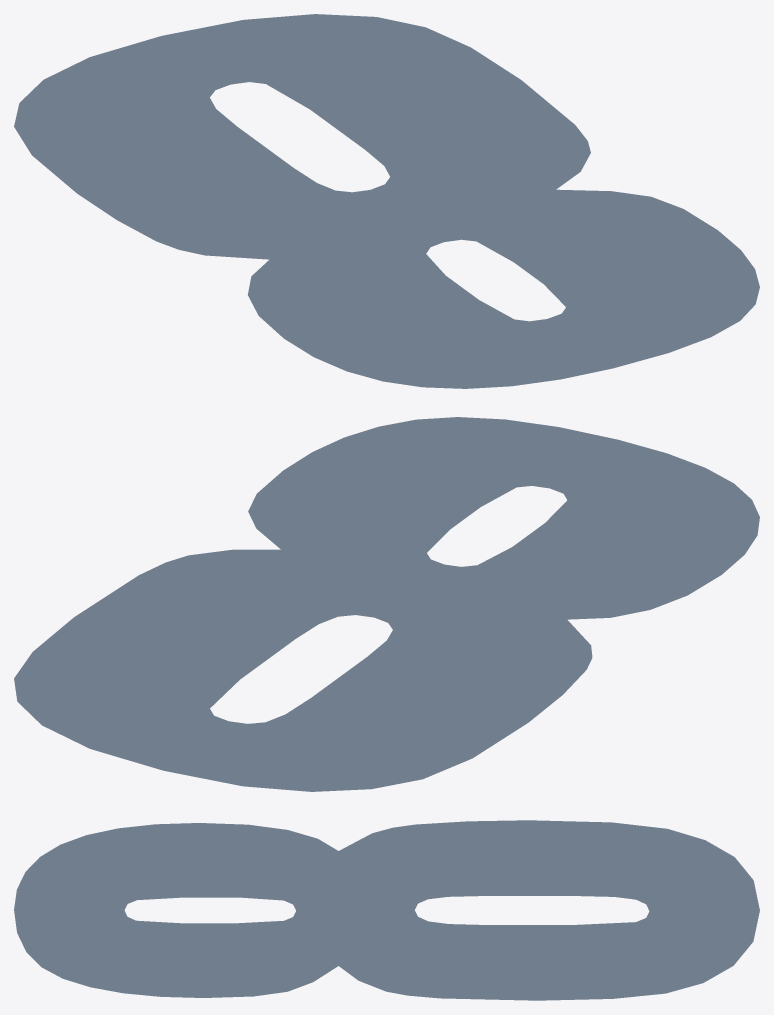
Rendered from original-2.obj.
The picture shows the model from 3 angles, top to bottom: view 1: azimuth 30°, elevation 25°; view 2: azimuth 150°, elevation 25°; view 3: azimuth 270°, elevation 25°; orthographic projection. The views are drawn at different scales.
Visible parts, largest first — view 1: mesh1/mesh1-geometry#mesh1-geometry; view 2: mesh1/mesh1-geometry#mesh1-geometry; view 3: mesh1/mesh1-geometry#mesh1-geometry.
Boxes of the visible parts, x1,y1,x2,y2 form: mesh1/mesh1-geometry#mesh1-geometry: (14, 14, 759, 388); mesh1/mesh1-geometry#mesh1-geometry: (14, 417, 759, 791); mesh1/mesh1-geometry#mesh1-geometry: (14, 820, 759, 1000).
Bounding box in the file's own units: 0.0149 × 0 × 0.026.
